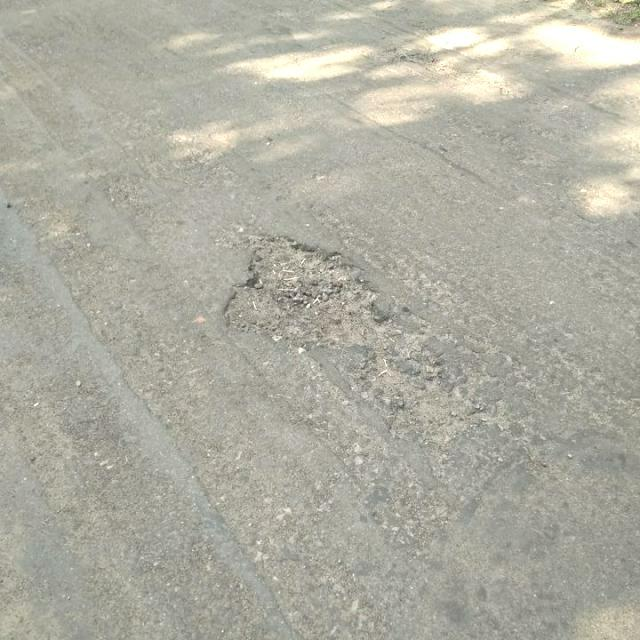Pothole: (223, 233, 393, 361), (356, 357, 493, 444), (396, 49, 461, 74)
